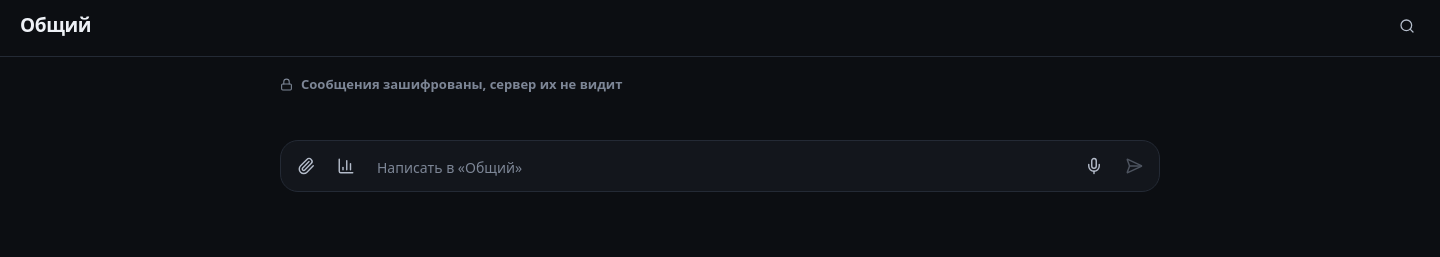
Test: attachments › «Прикрепить» puts the chosen files in the strip, and they go with the message
Click the button named "Прикрепить" at (306, 166), box [287, 147, 325, 185]
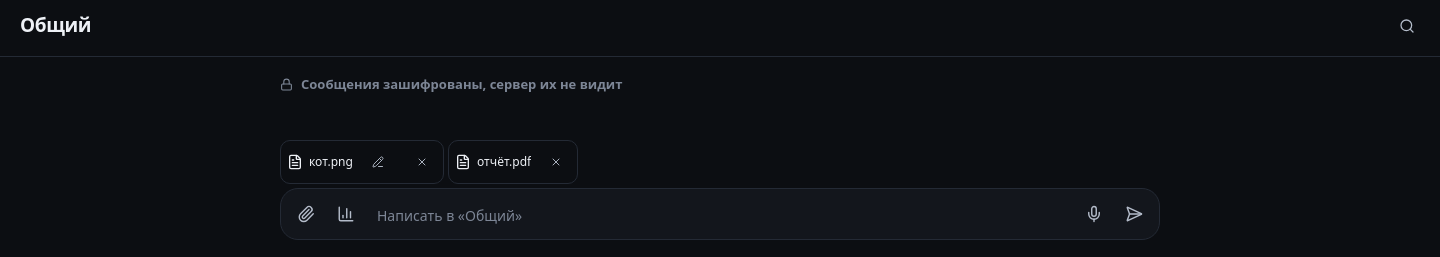
Now the list items read "кот.png", "отчёт.pdf", in this order, box [280, 140, 444, 184]; [448, 140, 578, 184]
Click the button named "Убрать «отчёт.pdf»" at (556, 162), box [537, 143, 575, 181]
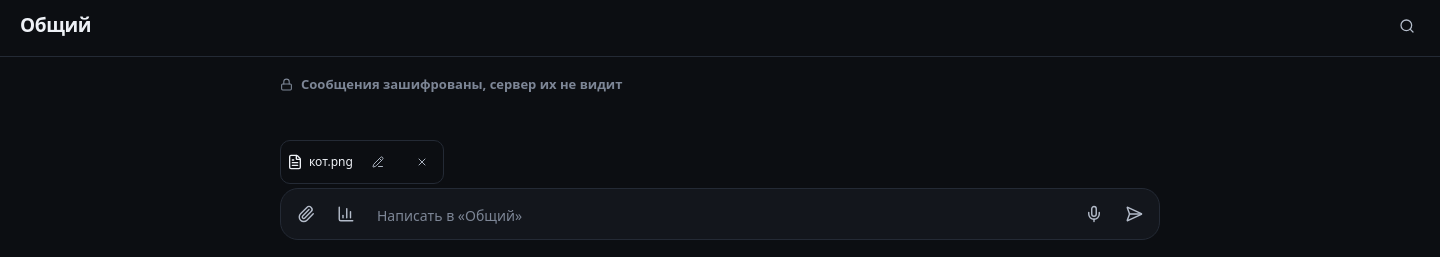
Press Enter in the text box, box [367, 198, 1073, 233]
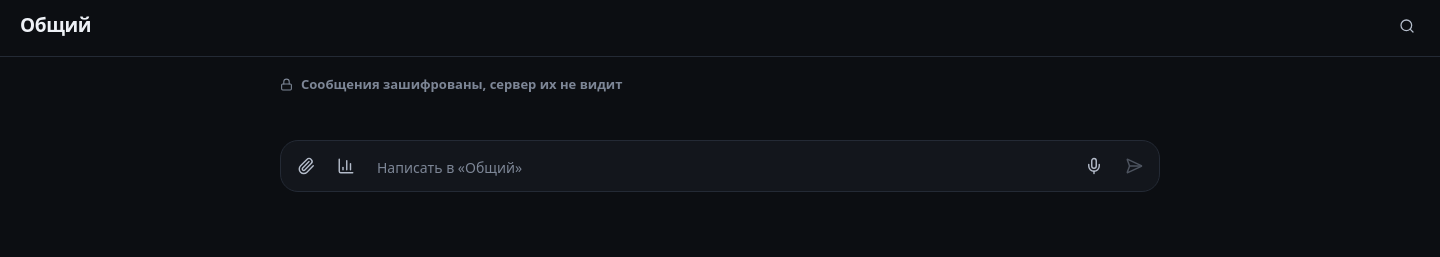
Now the list "Вложения" is gone
